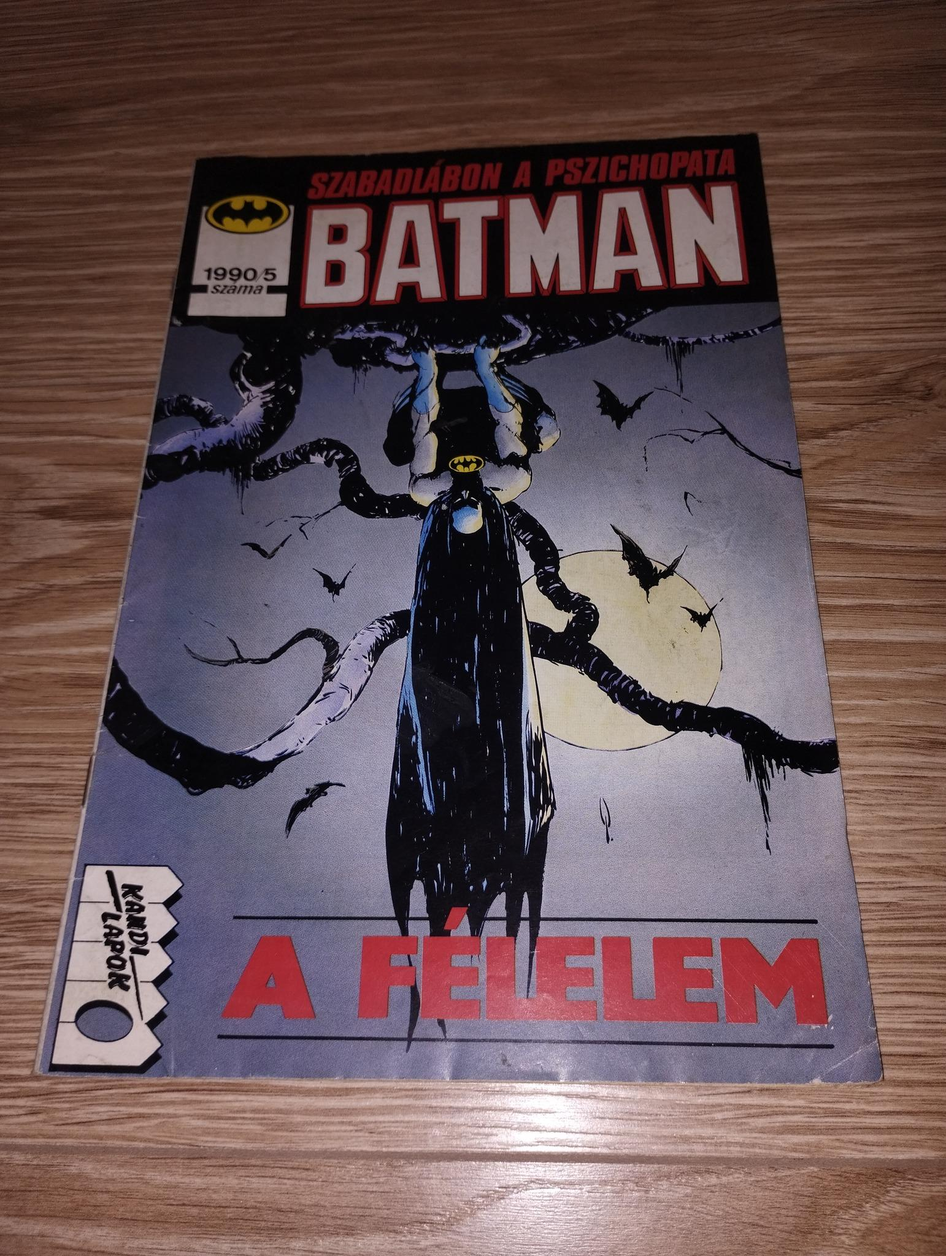comic: (39, 128, 889, 1083)
